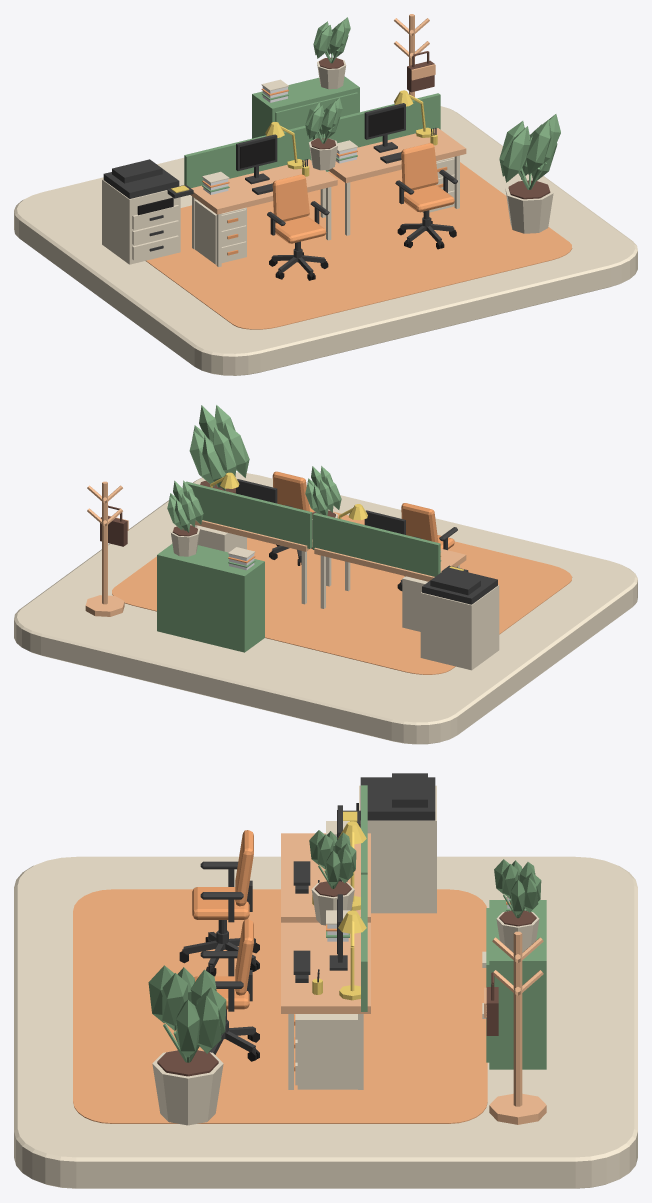
The picture shows the model from 3 angles, top to bottom: view 1: azimuth 30°, elevation 25°; view 2: azimuth 150°, elevation 25°; view 3: azimuth 270°, elevation 25°; orthographic projection. The views are drawn at different scales.
Visible parts, largest first — view 1: AST-001-0, AST-002-0, AST-009-0, AST-010-2, AST-003-0, AST-003-1, AST-004-0, AST-004-1, AST-015-0, AST-013-0, AST-008-0, AST-013-1 (+9 smaller); view 2: AST-001-0, AST-002-0, AST-015-0, AST-009-0, AST-013-0, AST-013-1, AST-010-2, AST-010-1, AST-016-0, AST-004-0, AST-003-0, AST-010-0 (+8 smaller); view 3: AST-001-0, AST-002-0, AST-009-0, AST-010-2, AST-004-1, AST-015-0, AST-008-1, AST-003-0, AST-016-0, AST-004-0, AST-003-1, AST-010-1 (+7 smaller).
Boxes of the visible parts, bbox=[...] form: AST-001-0: bbox=[14, 106, 637, 375]; AST-002-0: bbox=[146, 162, 572, 329]; AST-009-0: bbox=[102, 159, 193, 264]; AST-010-2: bbox=[499, 114, 560, 233]; AST-003-0: bbox=[267, 174, 329, 280]; AST-003-1: bbox=[395, 143, 457, 249]; AST-004-0: bbox=[190, 159, 337, 267]; AST-004-1: bbox=[320, 128, 466, 235]; AST-015-0: bbox=[252, 76, 359, 171]; AST-013-0: bbox=[184, 125, 312, 187]; AST-008-0: bbox=[194, 199, 246, 264]; AST-013-1: bbox=[312, 93, 440, 147]; AST-001-0: bbox=[14, 472, 637, 744]; AST-002-0: bbox=[112, 511, 572, 674]; AST-015-0: bbox=[157, 543, 264, 652]; AST-009-0: bbox=[420, 565, 499, 670]; AST-013-0: bbox=[312, 513, 440, 576]; AST-013-1: bbox=[185, 481, 312, 548]; AST-010-2: bbox=[189, 405, 249, 493]; AST-010-1: bbox=[167, 480, 203, 556]; AST-016-0: bbox=[85, 481, 124, 616]; AST-004-0: bbox=[314, 547, 466, 608]; AST-003-0: bbox=[397, 503, 457, 590]; AST-010-0: bbox=[305, 466, 341, 538]; AST-001-0: bbox=[14, 856, 637, 1188]; AST-002-0: bbox=[73, 889, 487, 1123]; AST-009-0: bbox=[343, 773, 436, 913]; AST-010-2: bbox=[148, 965, 226, 1125]; AST-004-1: bbox=[281, 922, 370, 1089]; AST-015-0: bbox=[482, 900, 546, 1069]; AST-008-1: bbox=[294, 1014, 357, 1089]; AST-003-0: bbox=[179, 830, 259, 976]; AST-016-0: bbox=[489, 931, 546, 1124]; AST-004-0: bbox=[281, 833, 370, 922]; AST-003-1: bbox=[194, 919, 259, 1061]; AST-010-1: bbox=[494, 859, 541, 952].
Size of the model in its own units: 6 by 2.16 by 5.2.
Materials: 1 (1 with a texture image).
